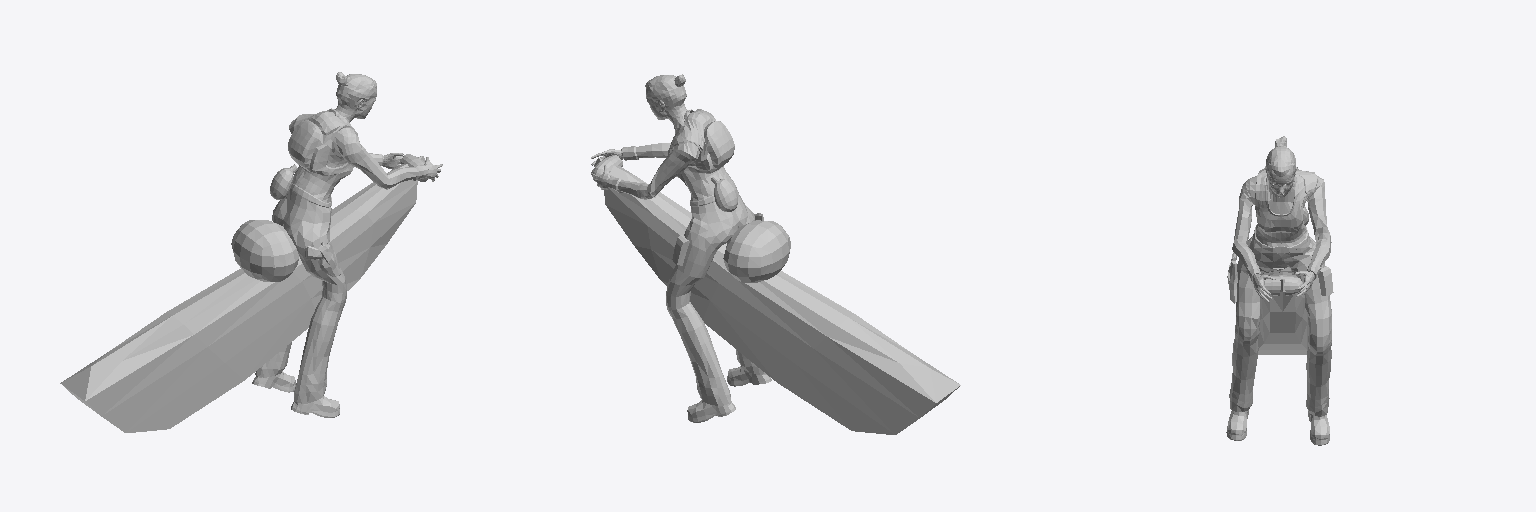
Rendered from vehicle_driver.obj.
The picture shows the model from 3 angles: view 1: azimuth 30°, elevation 25°; view 2: azimuth 150°, elevation 25°; view 3: azimuth 270°, elevation 25°; orthographic projection.
Visible parts, largest first — view 1: seat_Game, Model001_24_body_0_7_0_0 group1, group1 Model001_24_0_7_0_0; view 2: seat_Game, Model001_24_body_0_7_0_0 group1, group1 Model001_24_0_7_0_0; view 3: Model001_24_body_0_7_0_0 group1, seat_Game, group1 Model001_24_0_7_0_0.
Boxes of the visible parts, box(x1,y1,x2,y2) form: seat_Game: box(60, 154, 427, 432); Model001_24_body_0_7_0_0 group1: box(252, 108, 442, 417); group1 Model001_24_0_7_0_0: box(333, 72, 376, 122); seat_Game: box(591, 155, 960, 434); Model001_24_body_0_7_0_0 group1: box(591, 109, 771, 422); group1 Model001_24_0_7_0_0: box(645, 74, 689, 133); Model001_24_body_0_7_0_0 group1: box(1226, 168, 1333, 445); seat_Game: box(1247, 236, 1316, 354); group1 Model001_24_0_7_0_0: box(1265, 136, 1297, 214).
Size of the model in its own units: 2.14 by 1.81 by 0.544.